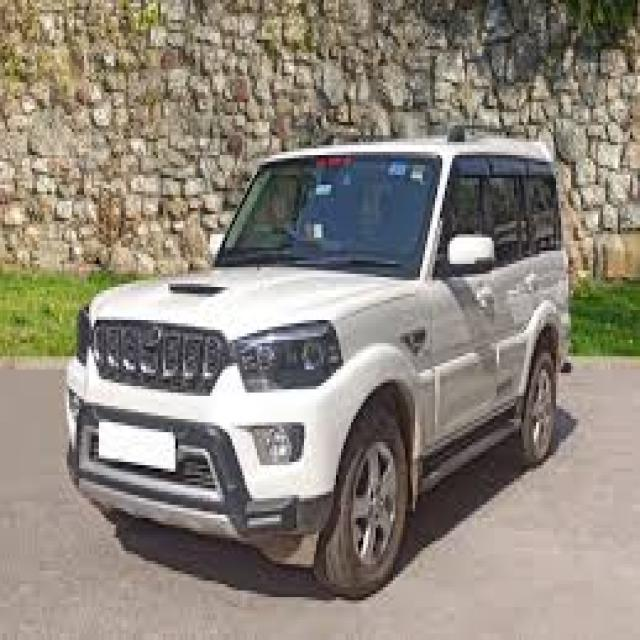Car: (65, 140, 569, 597)
